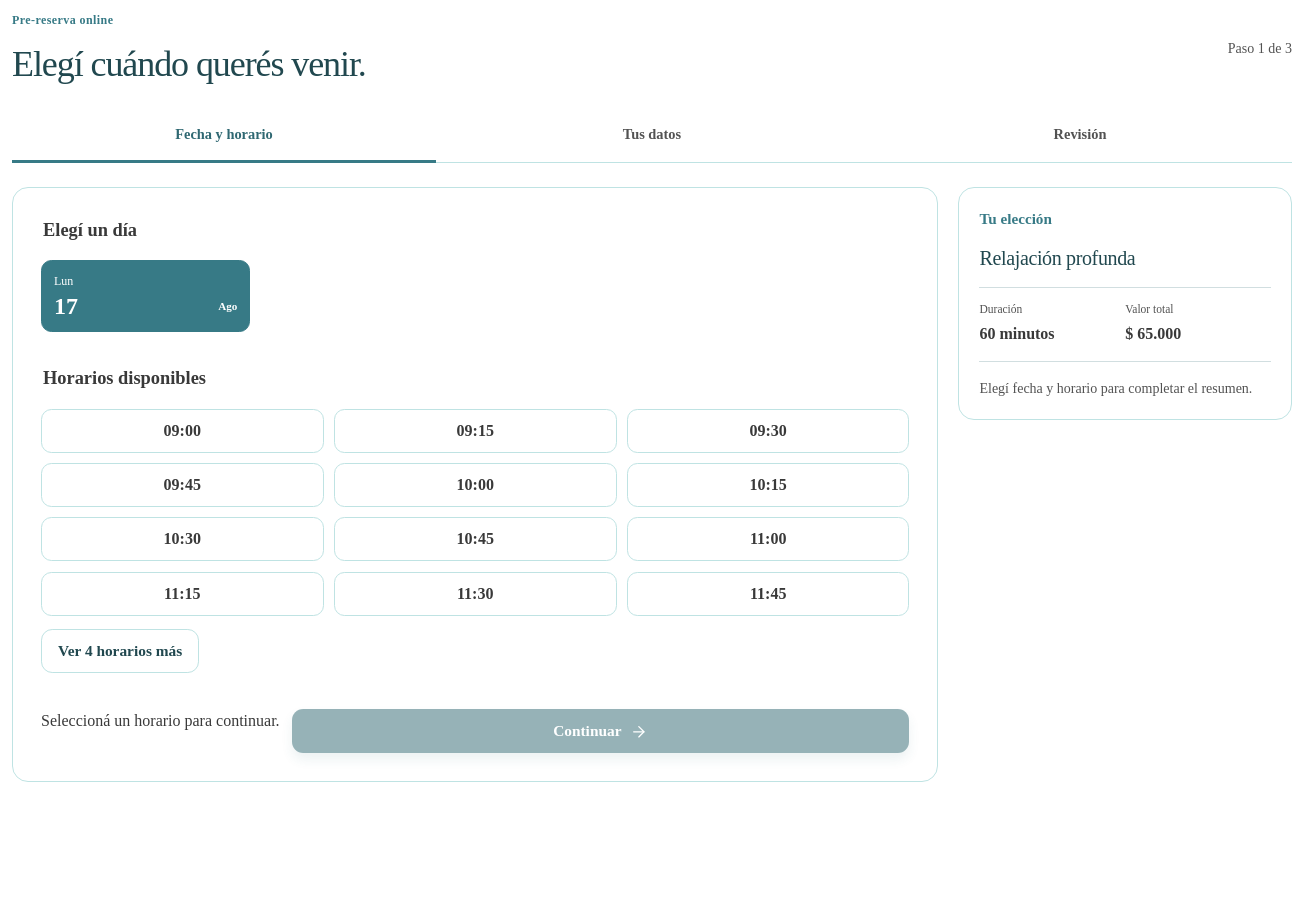
LiveBookingFlow › keeps long availability lists compact until the person asks for more
Click the button "Ver 4 horarios más" at [120, 651], box x1=41 y1=629 x2=199 y2=673
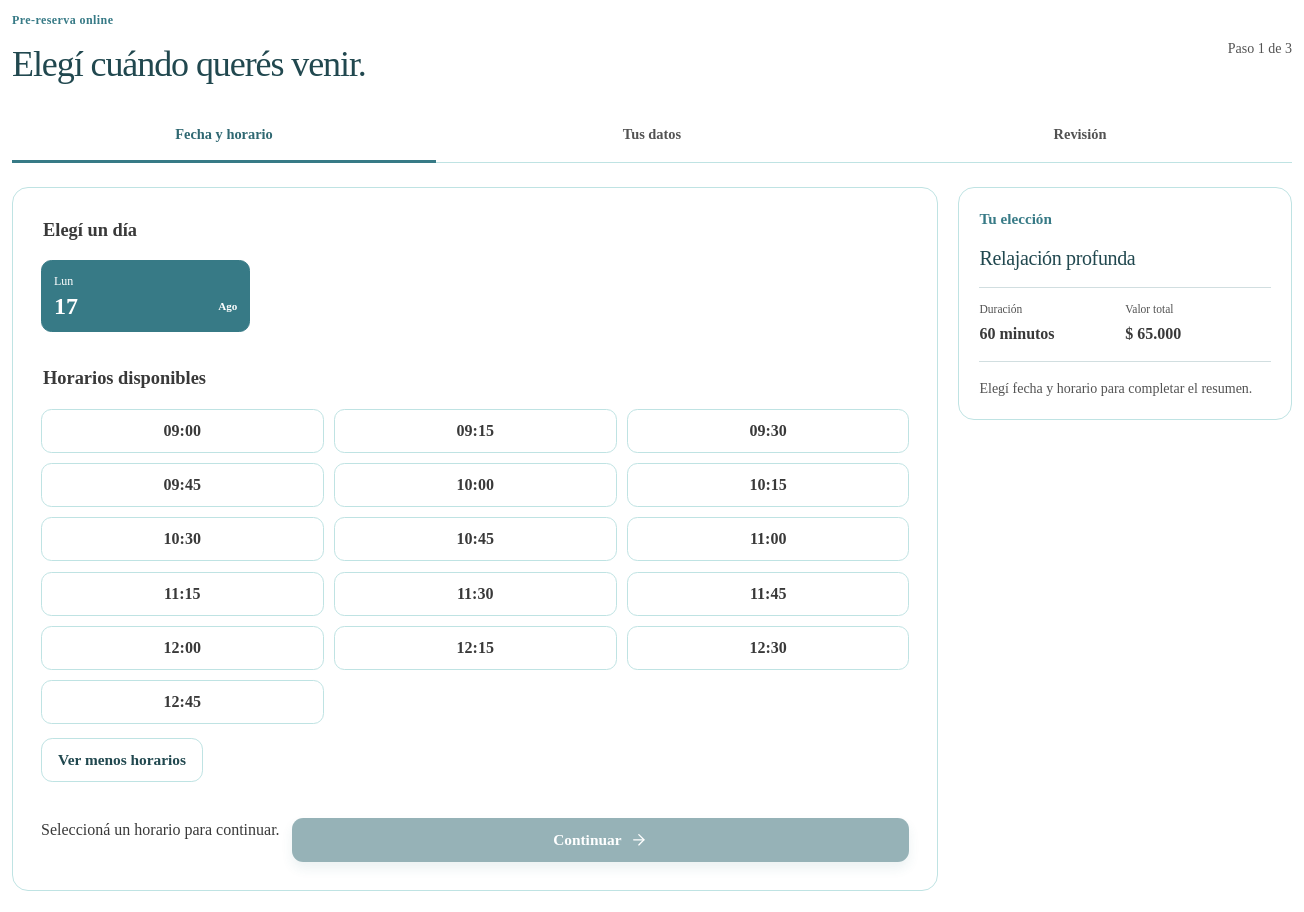
Check: the button "Ver menos horarios" is expanded, box x1=41 y1=738 x2=203 y2=782
